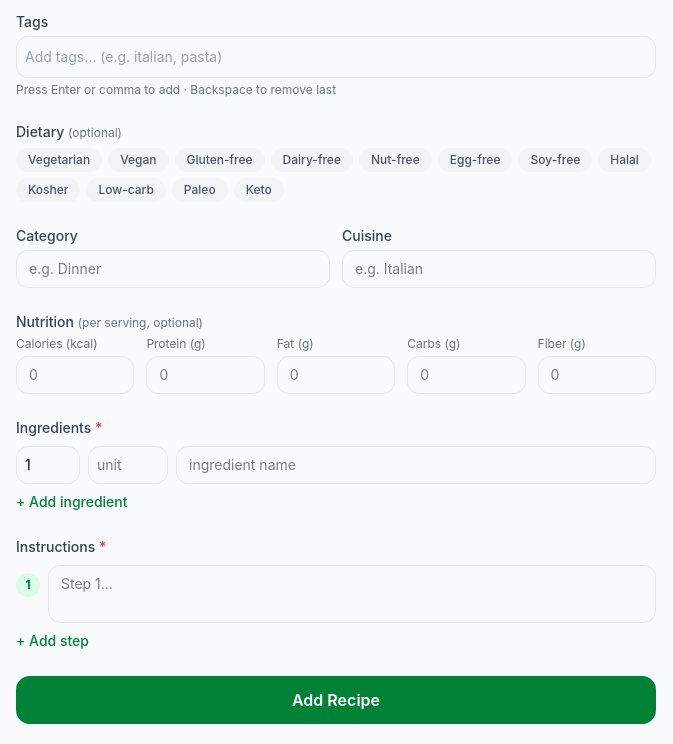
Test: RecipeFormPage › form validation › shows an error when name is empty on submit
This screenshot has width=673, height=744.
(page scrolled)
Click the button "Add Recipe".
click(336, 700)  # box [16,676,656,724]
(page scrolled)
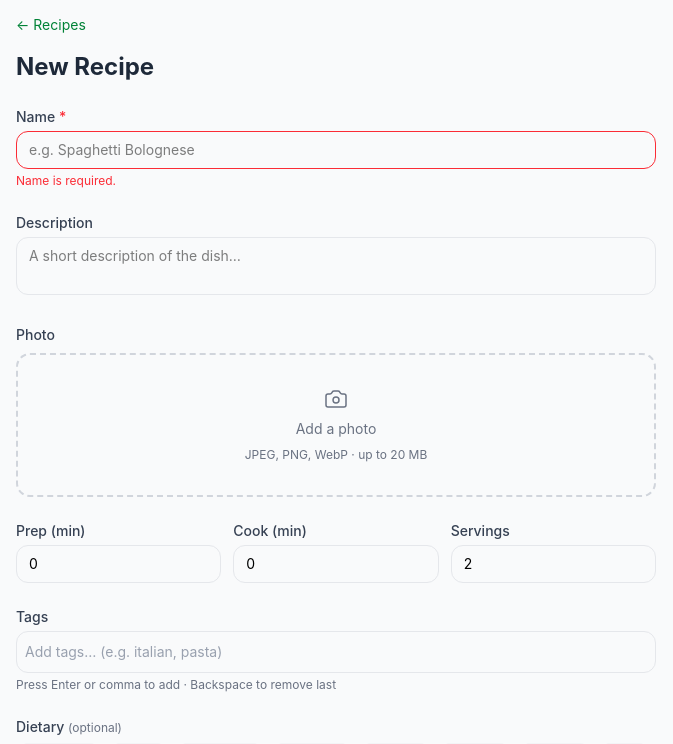
Expected: the text "Name is required." is shown, [16,173,116,188]
